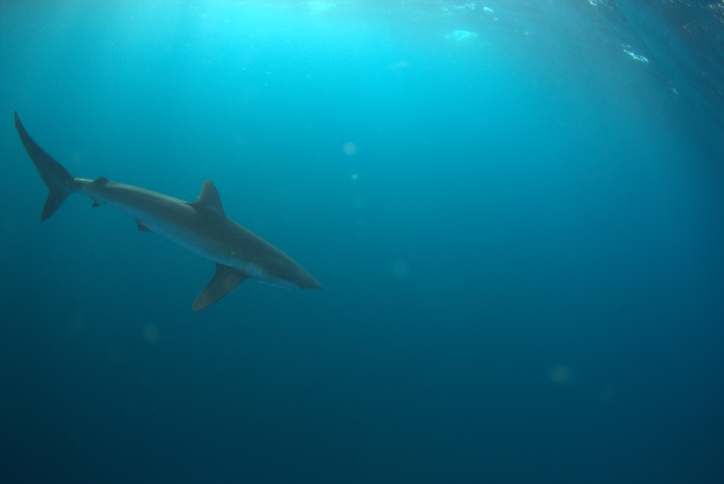Sedoso: (7, 104, 329, 319)
